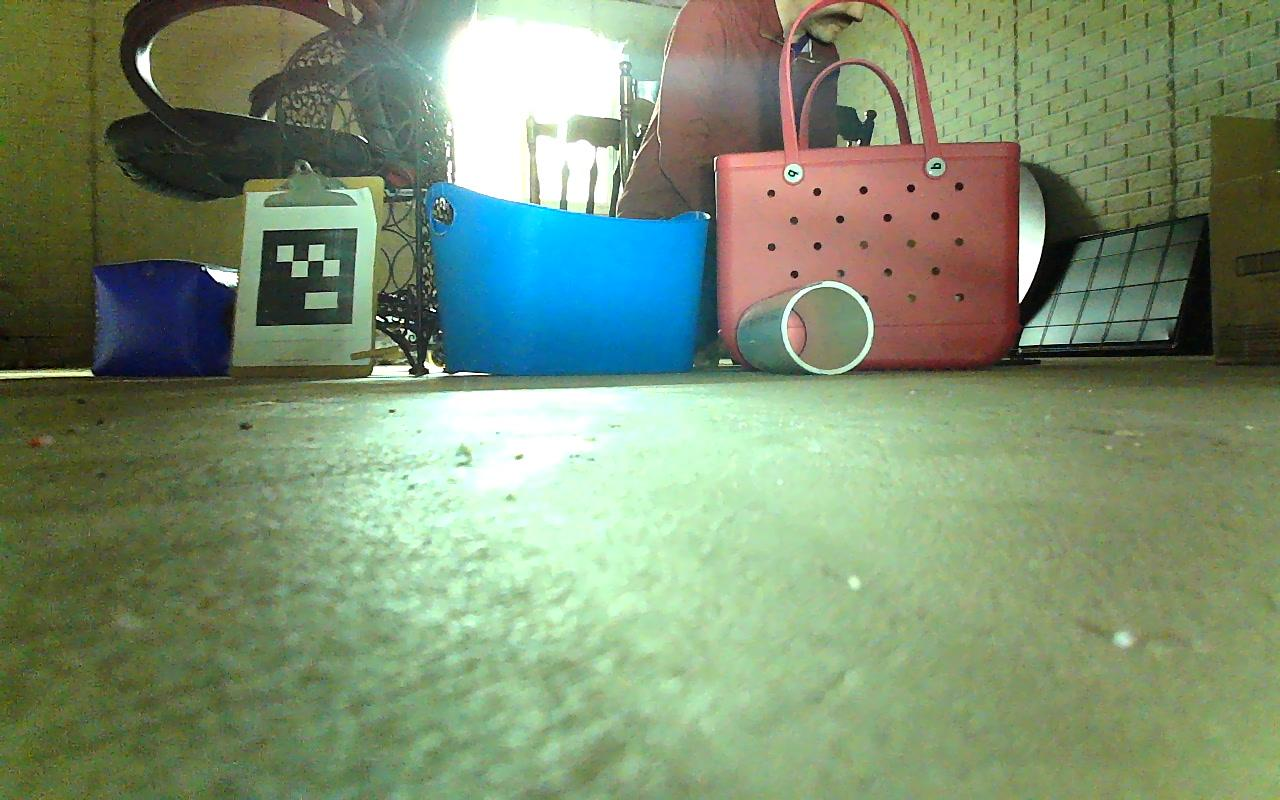coral: (737, 281, 874, 375)
